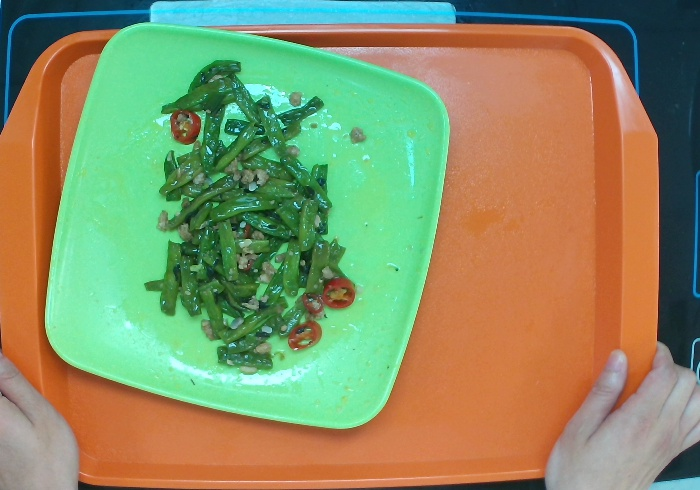ZNLD-Lv_Fang_Pan: (36, 16, 460, 434)
